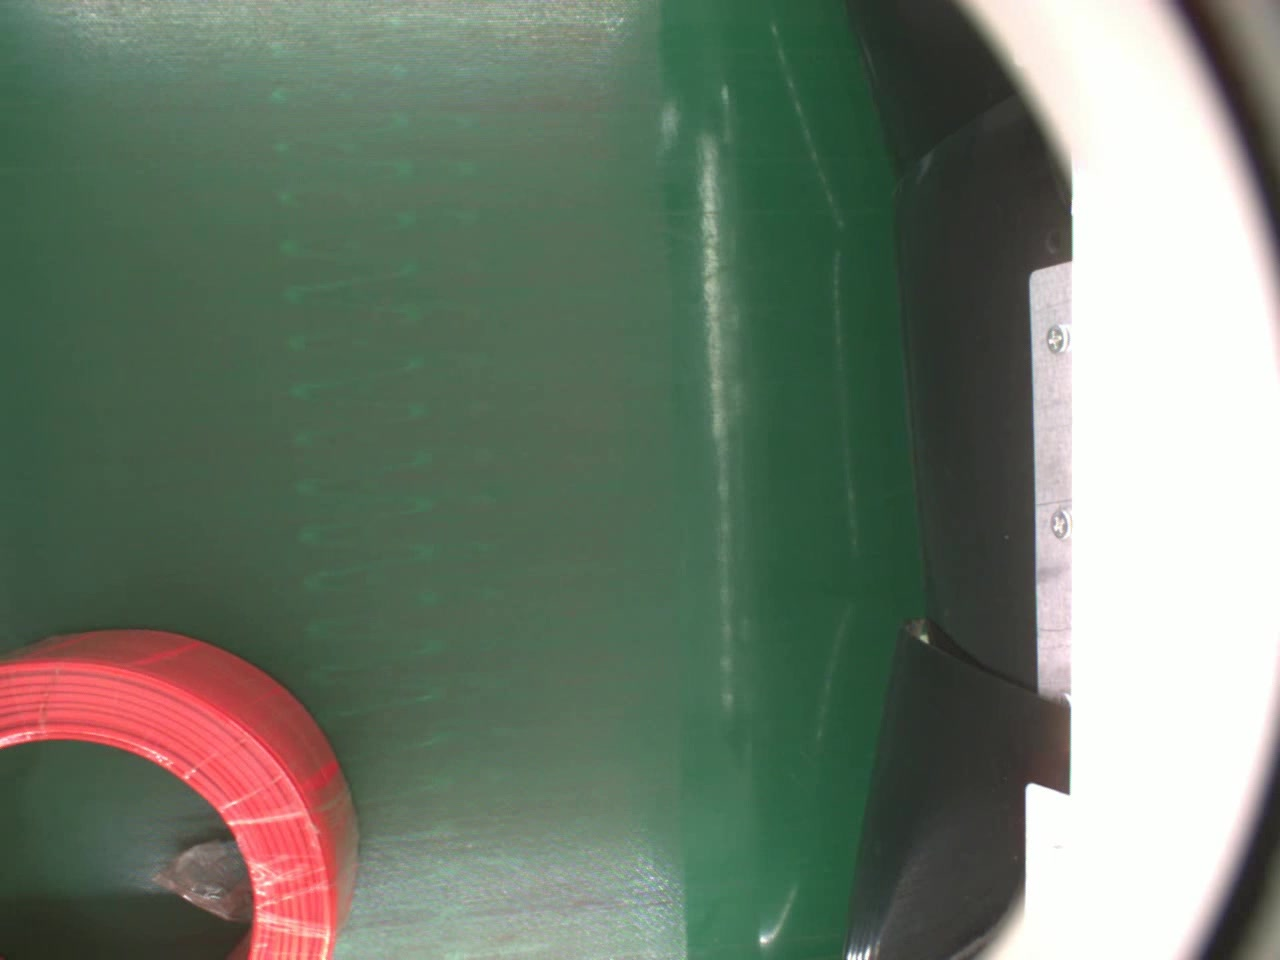red: (0, 622, 366, 960)
